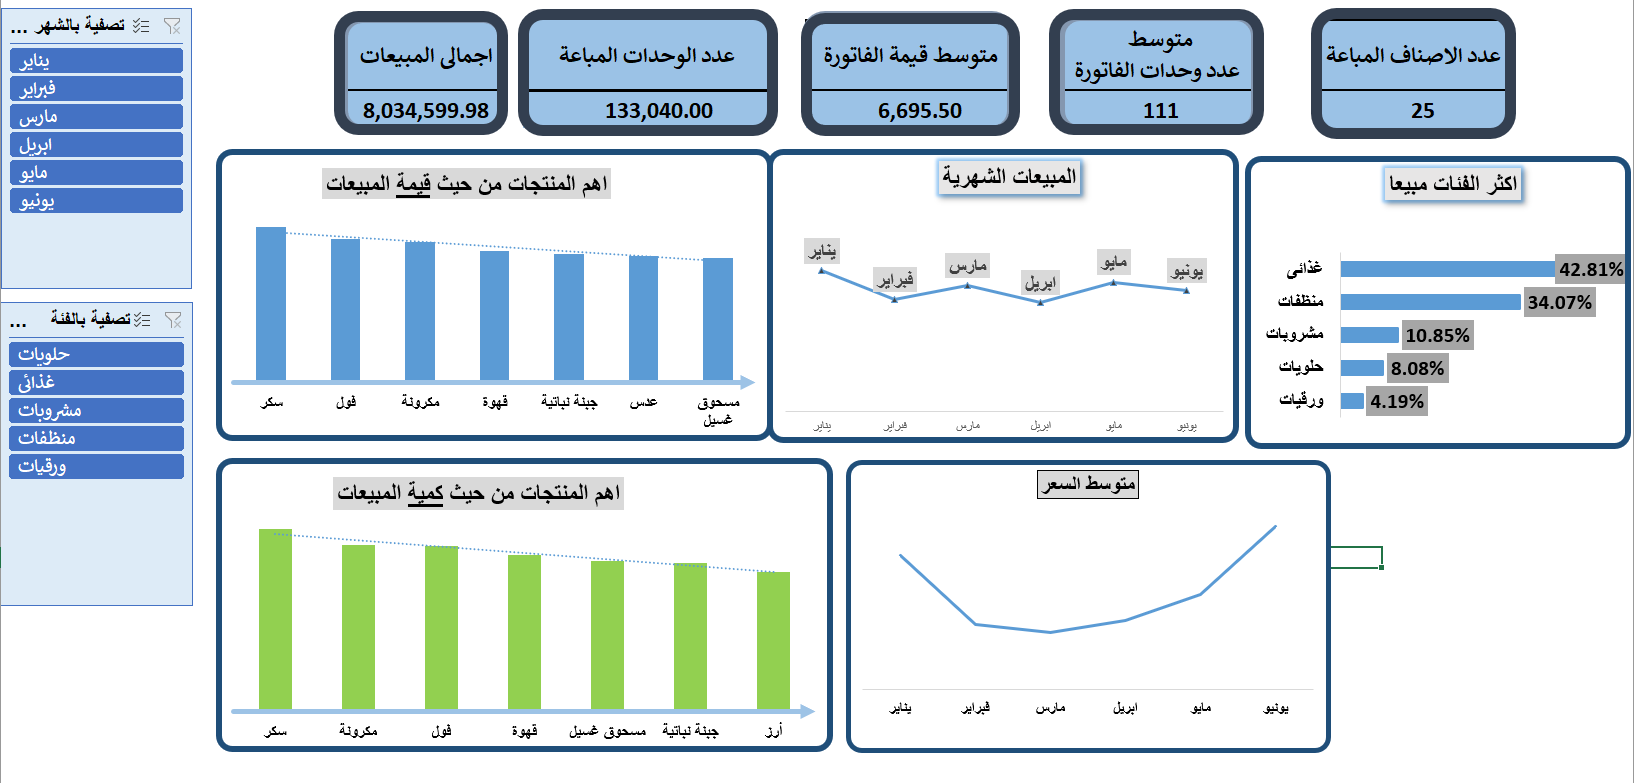

The page's visual inventory and layout, read from the dashboard file:
{"tool":"powerbi","page":{"name":"Duplicate of Page 1","canvas":[1580,890],"ordinal":1},"visuals":[{"type":"card","title":"اجمالى المبيعات ","fields":{"Values":["Sum(Supermarket_Data.اجمالى الفاتورة)"]},"box":[193.3,12,200.8,127.4],"z":0},{"type":"card","title":" عدد الوحدات المباعة","fields":{"Values":["Sum(Supermarket_Data.الكمية_المباعة)"]},"box":[421.1,12,200.8,127.4],"z":1000},{"type":"card","title":"متوسط قيمة الفاتورة ","fields":{"Values":["Avg(Supermarket_Data.اجمالى الفاتورة)"]},"box":[649.8,12.1,202.4,127.3],"z":2000},{"type":"card","title":"متوسط  عدد وحدات الفاتورة ","fields":{"Values":["Avg(Supermarket_Data.الكمية_المباعة)"]},"box":[880.1,12.1,197.6,127.3],"z":3000},{"type":"card","title":"عدد الاصناف المباعة","fields":{"Values":["Count(Supermarket_Data.الكمية_المباعة)"]},"box":[1106.8,12.1,170.9,127.3],"z":4000},{"type":"columnChart","title":"اهم المنتجات من حيث قيمة المبيعات","fields":{"Category":["Supermarket_Data.المنتج"],"Y":["Sum(Supermarket_Data.اجمالى الفاتورة)"]},"box":[185.8,149.8,546.9,359.6],"z":5000},{"type":"listSlicer","title":"تصفية بالشهر ","fields":{"Values":["الشهور بالعربى.اسم الشهر بالعربى"]},"box":[13.5,18,166.1,342.7],"z":6000},{"type":"columnChart","title":"اهم المنتجات من حيث كمية المبيعات","fields":{"Category":["Supermarket_Data.المنتج"],"Y":["Sum(Supermarket_Data.الكمية_المباعة)"]},"box":[193.3,509.5,539.5,349.1],"z":7000},{"type":"lineChart","title":"المبيعات الشهرية","fields":{"Category":["الشهور بالعربى.اسم الشهر بالعربى"],"Y":["Sum(Supermarket_Data.اجمالى الفاتورة)"]},"box":[732.8,146.9,484,362.6],"z":8000},{"type":"funnel","title":"اكثر الفئات مبيعا","fields":{"Category":["catigories.الفئة"],"Y":["Sum(Supermarket_Data.اجمالى الفاتورة)"]},"box":[1216.8,151.3,362.6,392.6],"z":9000},{"type":"listSlicer","title":"تصفية بالفئة ","fields":{"Values":["catigories.الفئة"]},"box":[12.2,395.9,166.7,340.3],"z":11000},{"type":"lineChart","title":"متوسط السعر","fields":{"Category":["الشهور بالعربى.اسم الشهر بالعربى"],"Y":["Avg(Supermarket_Data.السعر_للواحدة)"]},"box":[732.8,517,494.5,341.7],"z":11002}]}

Visuals, with their boxes on the page's 1580x890 design canvas (x1, y1, x2, y2). These are canvas units, not pixel positions in the 1634x783 screenshot, which may show the page scaled, cropped or inside an application window:
"اجمالى المبيعات " card: crop(193, 12, 394, 139)
" عدد الوحدات المباعة" card: crop(421, 12, 622, 139)
"متوسط قيمة الفاتورة " card: crop(650, 12, 852, 139)
"متوسط  عدد وحدات الفاتورة " card: crop(880, 12, 1078, 139)
"عدد الاصناف المباعة" card: crop(1107, 12, 1278, 139)
"اهم المنتجات من حيث قيمة المبيعات" columnChart: crop(186, 150, 733, 509)
"تصفية بالشهر " listSlicer: crop(14, 18, 180, 361)
"اهم المنتجات من حيث كمية المبيعات" columnChart: crop(193, 510, 733, 859)
"المبيعات الشهرية" lineChart: crop(733, 147, 1217, 510)
"اكثر الفئات مبيعا" funnel: crop(1217, 151, 1579, 544)
"تصفية بالفئة " listSlicer: crop(12, 396, 179, 736)
"متوسط السعر" lineChart: crop(733, 517, 1227, 859)
